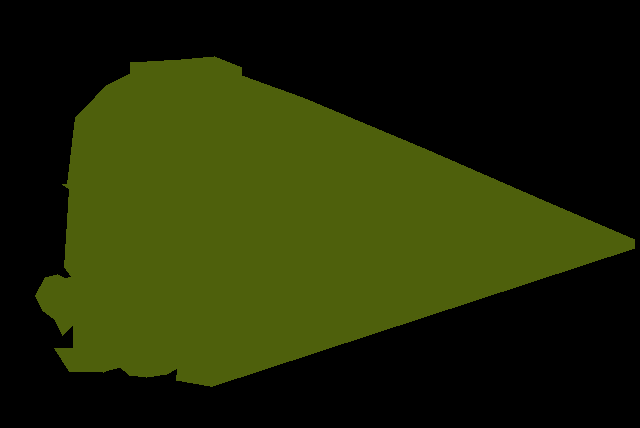Train: (35, 56, 634, 386)
